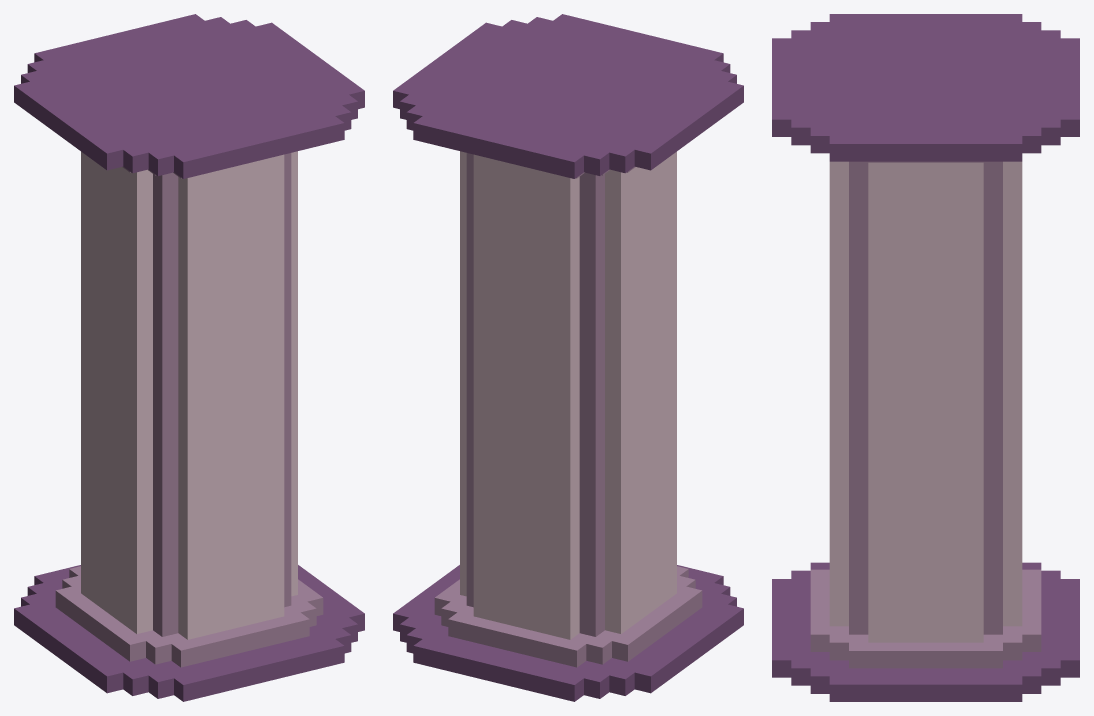
The model's file is pillar_thicc.obj.
3 renders of one model, left to right at view 1: azimuth 30°, elevation 25°; view 2: azimuth 150°, elevation 25°; view 3: azimuth 270°, elevation 25°, orthographic. The views are drawn at different scales.
Parts seen in each view (by area): view 1: pillar_thicc; view 2: pillar_thicc; view 3: pillar_thicc.
Boxes of the visible parts, bbox=[...] form: pillar_thicc: bbox=[14, 14, 364, 701]; pillar_thicc: bbox=[393, 14, 743, 701]; pillar_thicc: bbox=[772, 14, 1079, 701].
Bounding box in the file's own units: 8.75 × 17.51 × 8.75.
Materials: 1 (1 with a texture image).
